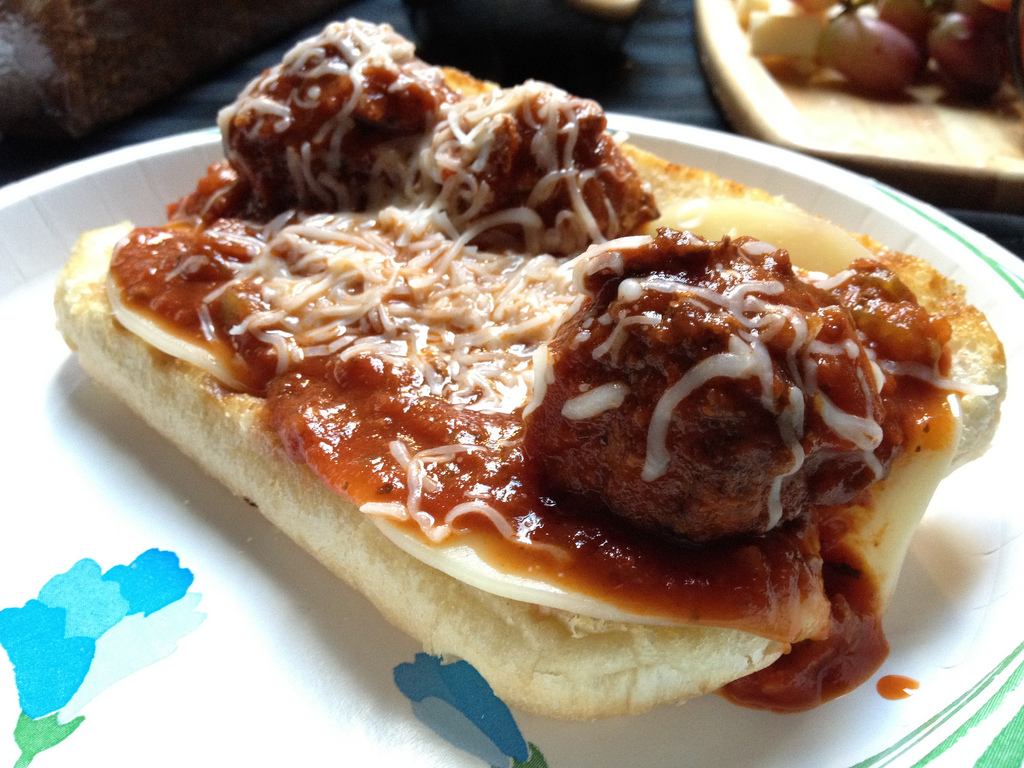meatballs: (570, 233, 824, 522), (224, 19, 431, 201), (459, 90, 649, 248)
slice of bread: (40, 234, 812, 722)
